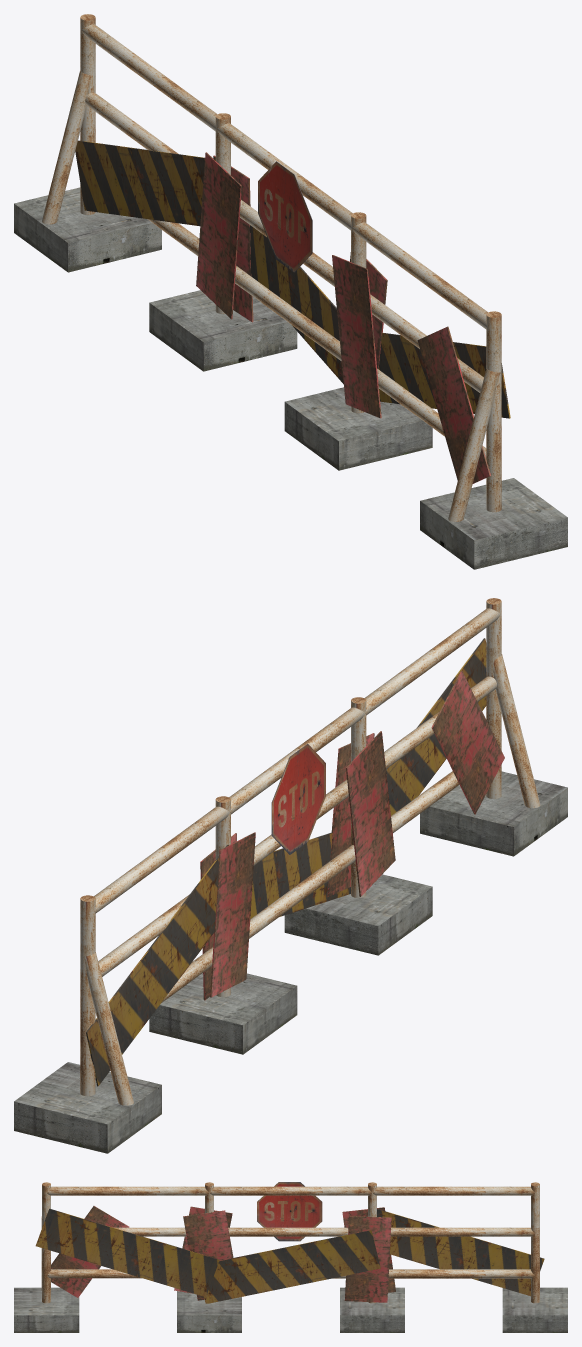
The model's file is RustFence.glb.
The picture shows the model from 3 angles, top to bottom: view 1: azimuth 30°, elevation 25°; view 2: azimuth 150°, elevation 25°; view 3: azimuth 270°, elevation 25°; orthographic projection. The views are drawn at different scales.
Visible parts, largest first — view 1: Cylinder.004, Cube.010, Cube.001, Cube, Cube.002, Cube.008, Cube.005, Cube.009, Cube.004, Cube.006, Cube.012, Cube.011 (+2 smaller); view 2: Cylinder.004, Cube.008, Cube.010, Cube.002, Cube.001, Cube, Cube.005, Cube.009, Cube.004, Cube.006, Cube.012, Cube.011 (+1 smaller); view 3: Cylinder.004, Cube.011, Cube.012, Cube.010, Cube.001, Cube.008, Cube.003, Cube.006, Cube.002, Cube, Cube.007, Cube.004 (+2 smaller).
Boxes of the visible parts, x1,y1,x2,y2 form: Cylinder.004: (42,14,501,521); Cube.010: (75,140,215,226); Cube.001: (420,478,567,569); Cube: (284,387,432,470); Cube.002: (149,290,297,371); Cube.008: (14,187,161,272); Cube.005: (332,255,381,418); Cube.009: (196,152,241,319); Cube.004: (417,326,490,483); Cube.006: (258,161,312,272); Cube.012: (250,225,343,383); Cube.011: (378,333,510,418); Cylinder.004: (80,598,540,1105); Cube.008: (14,1062,161,1153); Cube.010: (86,844,228,1086); Cube.002: (149,973,297,1054); Cube.001: (420,771,567,856); Cube: (284,874,432,955); Cube.005: (346,731,395,896); Cube.009: (210,832,255,997); Cube.004: (431,670,504,814); Cube.006: (271,743,325,854); Cube.012: (250,832,350,918); Cube.011: (386,638,486,815); Cylinder.004: (41,1182,539,1303); Cube.011: (35,1208,219,1297); Cube.012: (204,1230,380,1303); Cube.010: (377,1209,544,1296); Cube.001: (14,1287,79,1332); Cube.008: (502,1287,567,1332); Cube.003: (344,1216,391,1302); Cube.006: (257,1182,322,1241); Cube.002: (340,1287,404,1332); Cube: (177,1291,241,1332); Cube.007: (183,1210,233,1300); Cube.004: (51,1206,129,1297).
Size of the model in its own units: 2 by 4.57 by 17.
24 materials, 24 textured.
